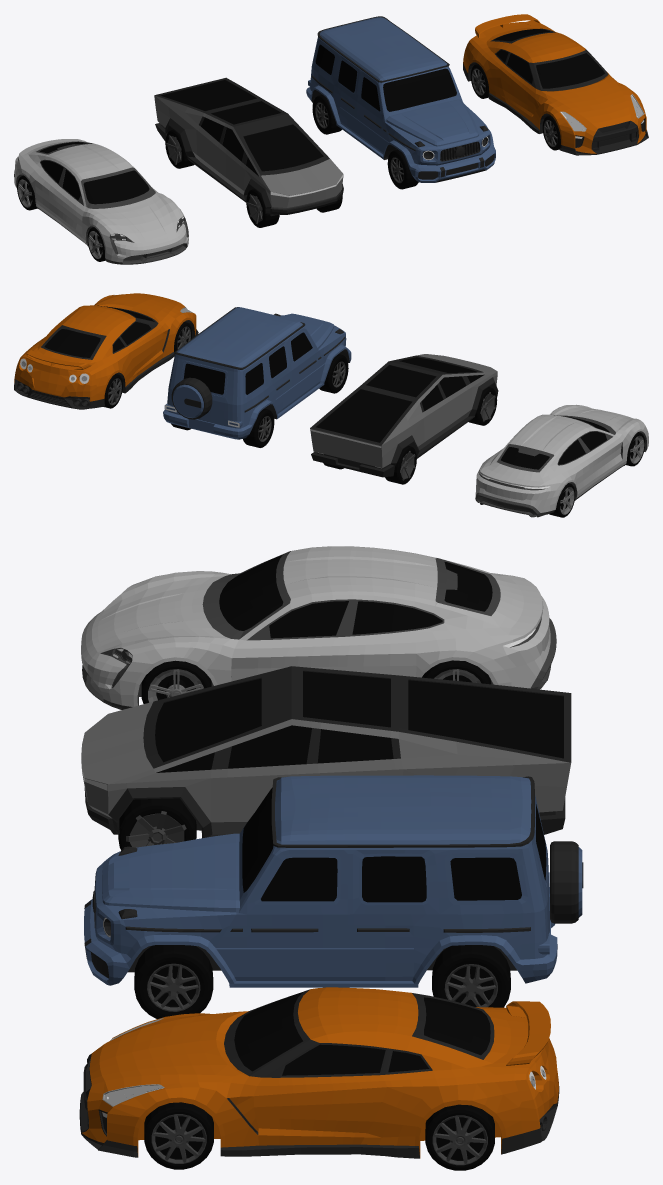
File: LowPoly Car Pack.fbx
3 views of the same model, one above another, from view 1: azimuth 30°, elevation 25°; view 2: azimuth 150°, elevation 25°; view 3: azimuth 270°, elevation 25° (orthographic). The views are drawn at different scales.
Visible parts, largest first — view 1: Cylinder.002, Plane.008, Plane, Plane.002, Plane.004, Plane.005, Plane.009, Plane.018, Plane.017, Cube, Plane.003, Plane.012 (+5 smaller); view 2: Cylinder.002, Plane.008, Plane, Plane.004, Plane.002, Plane.005, Plane.018, Cube, Plane.009, Plane.017, Plane.012, Plane.003 (+4 smaller); view 3: Cylinder.002, Plane.008, Plane, Plane.004, Plane.002, Plane.009, Plane.005, Plane.017, Plane.018, Plane.003, Plane.012, Cube (+12 smaller).
Part boxes in pixels (left/top/right/bottom): Cylinder.002: left=306, top=17, right=495, bottom=182; Plane.008: left=463, top=14, right=646, bottom=153; Plane: left=14, top=139, right=188, bottom=262; Plane.002: left=154, top=95, right=343, bottom=209; Plane.004: left=161, top=80, right=323, bottom=176; Plane.005: left=154, top=77, right=343, bottom=216; Plane.009: left=315, top=44, right=456, bottom=111; Plane.018: left=463, top=28, right=648, bottom=155; Plane.017: left=494, top=29, right=605, bottom=88; Cube: left=14, top=141, right=188, bottom=264; Plane.003: left=40, top=142, right=149, bottom=204; Plane.012: left=311, top=16, right=494, bottom=182; Cylinder.002: left=163, top=307, right=351, bottom=439; Plane.008: left=14, top=293, right=196, bottom=401; Plane: left=475, top=404, right=648, bottom=512; Plane.004: left=316, top=357, right=484, bottom=442; Plane.002: left=310, top=354, right=497, bottom=468; Plane.005: left=310, top=355, right=498, bottom=477; Plane.018: left=14, top=307, right=198, bottom=409; Cube: left=475, top=414, right=647, bottom=517; Plane.009: left=183, top=332, right=312, bottom=394; Plane.017: left=44, top=305, right=154, bottom=357; Plane.012: left=171, top=307, right=349, bottom=419; Plane.003: left=501, top=415, right=609, bottom=469; Cylinder.002: left=84, top=775, right=582, bottom=987; Plane.008: left=82, top=987, right=558, bottom=1147; Plane: left=81, top=546, right=550, bottom=706; Plane.004: left=155, top=671, right=563, bottom=772; Plane.002: left=81, top=701, right=570, bottom=834; Plane.009: left=242, top=787, right=546, bottom=902; Plane.005: left=84, top=666, right=571, bottom=838; Plane.017: left=234, top=992, right=490, bottom=1075; Plane.018: left=79, top=989, right=559, bottom=1158; Plane.003: left=219, top=554, right=492, bottom=638; Plane.012: left=84, top=776, right=583, bottom=978; Cube: left=82, top=551, right=556, bottom=709.
Bounding box in the file's own units: 827 × 132 × 335.
